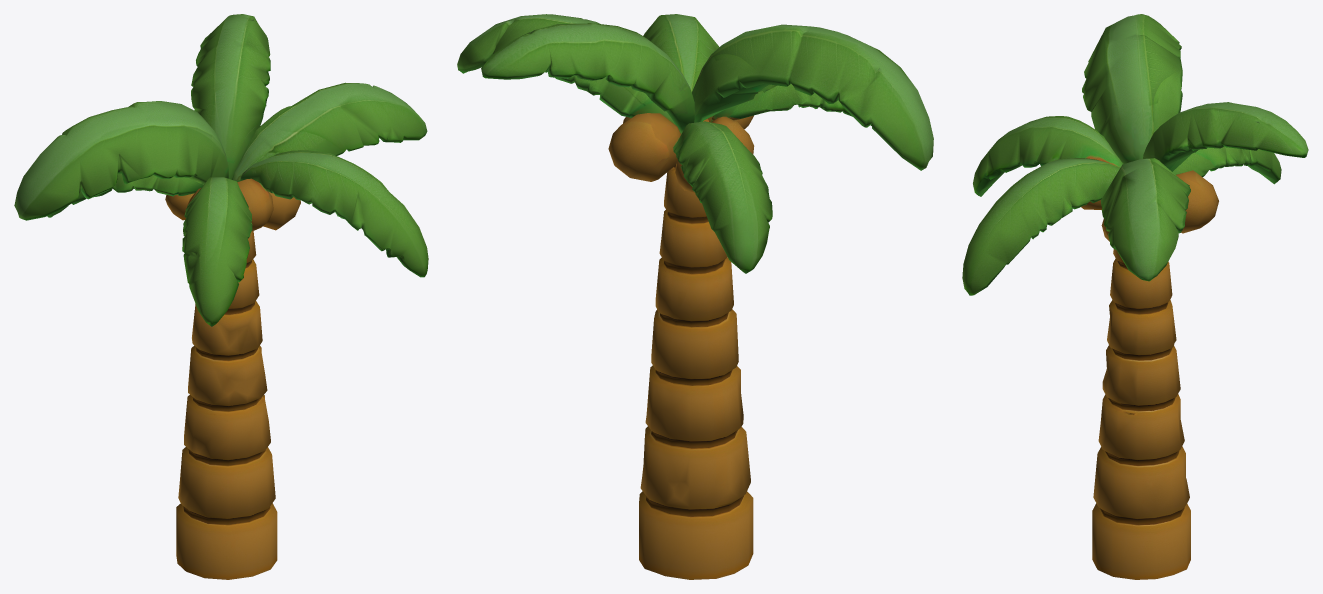
Rendered from tree_palm.glb.
The picture shows the model from 3 angles, left to right: view 1: azimuth 30°, elevation 25°; view 2: azimuth 150°, elevation 25°; view 3: azimuth 270°, elevation 25°; orthographic projection. The views are drawn at different scales.
Visible parts, largest first — view 1: tripo_node_89849fe2-a572-4a3d-964f-e2ee1eaacf07; view 2: tripo_node_89849fe2-a572-4a3d-964f-e2ee1eaacf07; view 3: tripo_node_89849fe2-a572-4a3d-964f-e2ee1eaacf07.
Part boxes in pixels (x1,y1,x2,y2): tripo_node_89849fe2-a572-4a3d-964f-e2ee1eaacf07: [14, 14, 428, 579]; tripo_node_89849fe2-a572-4a3d-964f-e2ee1eaacf07: [457, 14, 933, 579]; tripo_node_89849fe2-a572-4a3d-964f-e2ee1eaacf07: [962, 14, 1308, 579].
Size of the model in its own units: 0.8848 by 0.998 by 0.6504.
1 material, 1 textured.
